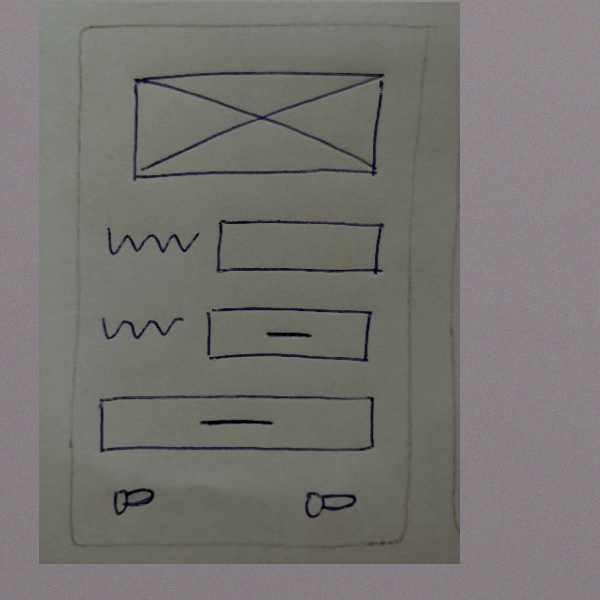button: (90, 389, 381, 457), (204, 304, 372, 370)
image: (129, 67, 389, 189)
switch: (302, 484, 358, 527), (106, 482, 163, 524)
text: (94, 219, 207, 267), (88, 303, 200, 350)
text_input: (211, 213, 393, 281)
